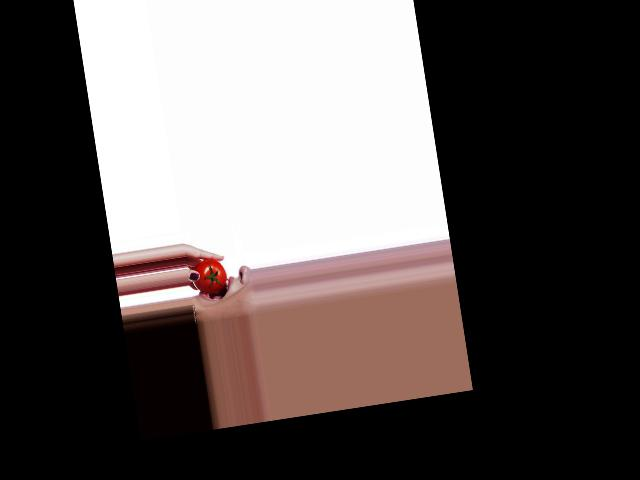tomato: (189, 256, 228, 295)
